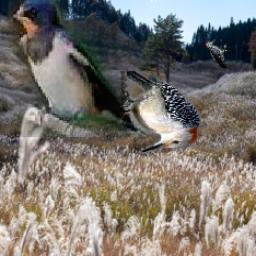Swallow: (7, 0, 146, 137)
Woodpecker: (120, 71, 201, 152), (206, 40, 228, 69)
